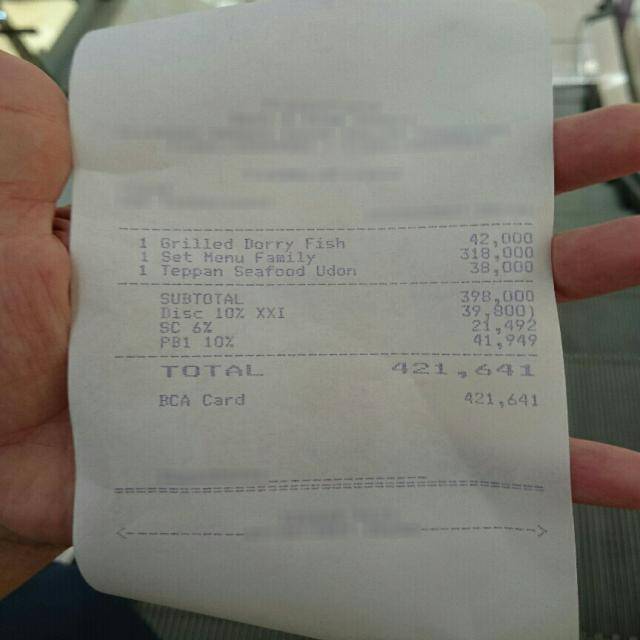kertas: (69, 0, 578, 640)
